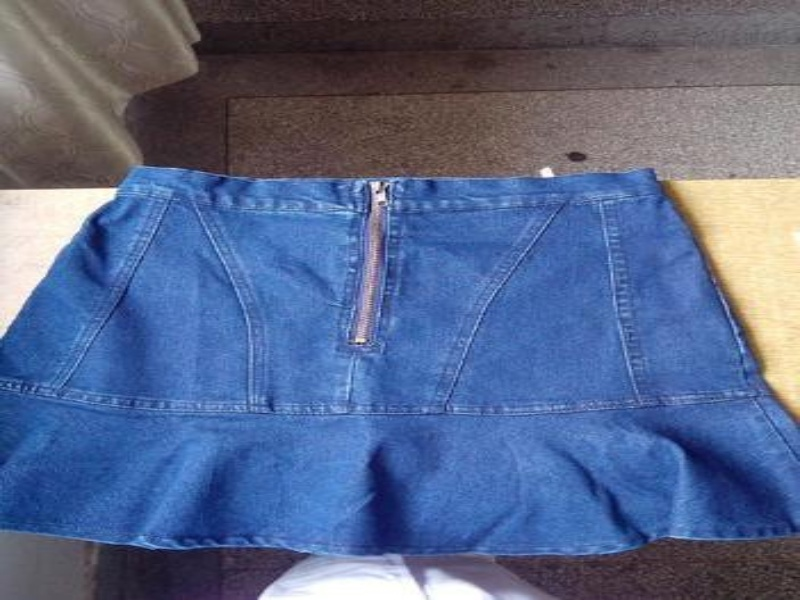skirt: (0, 165, 798, 559)
